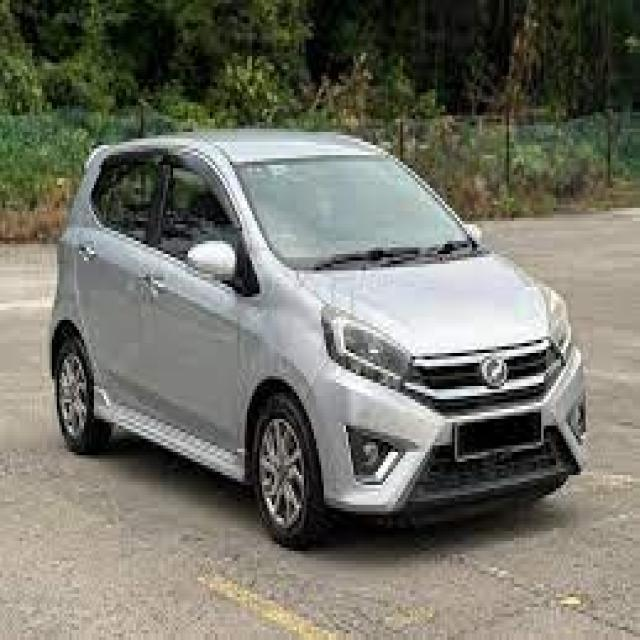PeroduaAxia: (47, 122, 588, 548)
